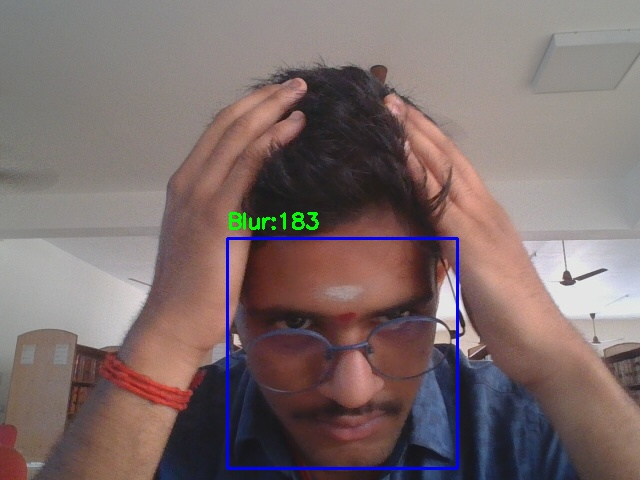real: (227, 238, 457, 468)
